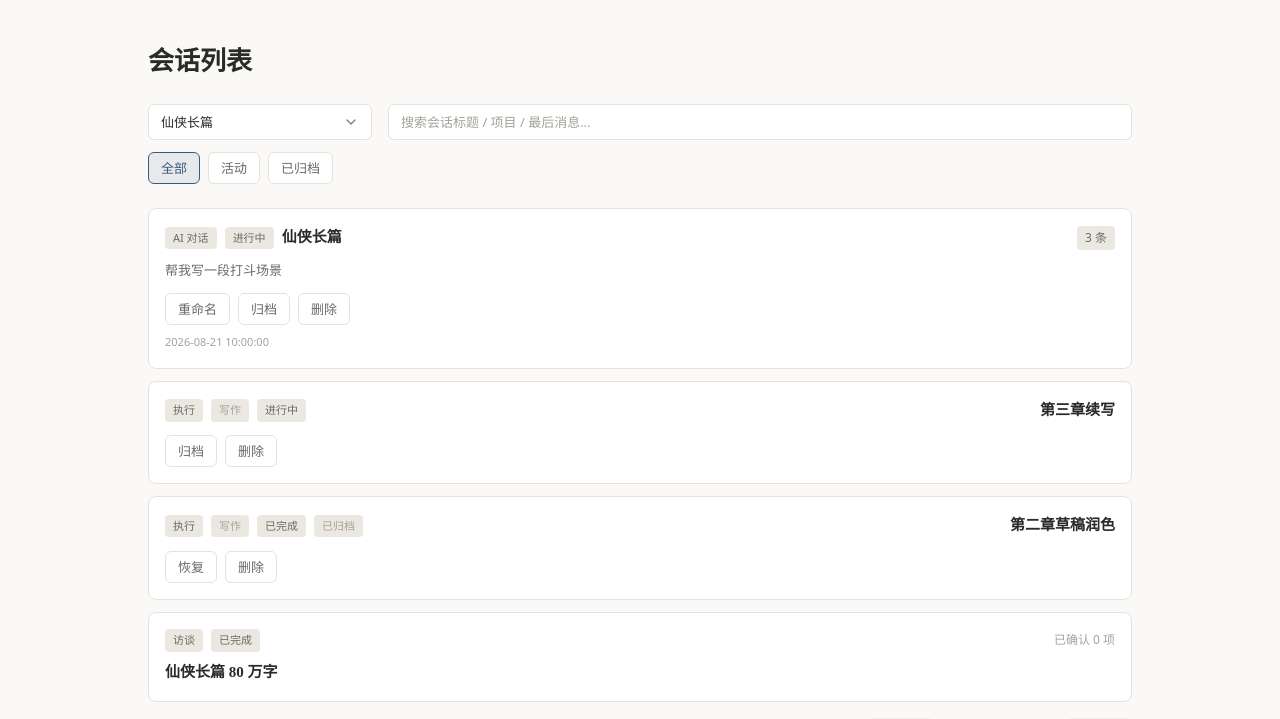
Test: 会话页 — 归档 / 恢复 / 删除（执行会话） › 归档：点 session-archive-ex-active-p1 → archiveSession(id) → 行转归档（徽标 + 恢复按钮）
The width and height of the screenshot is (1280, 719).
Expected: the button with test id "session-title-ex-active-p1" is shown, [1040, 398, 1115, 423]
Click the button with test id "session-archive-ex-active-p1". click: (191, 451)
box: [165, 435, 217, 467]
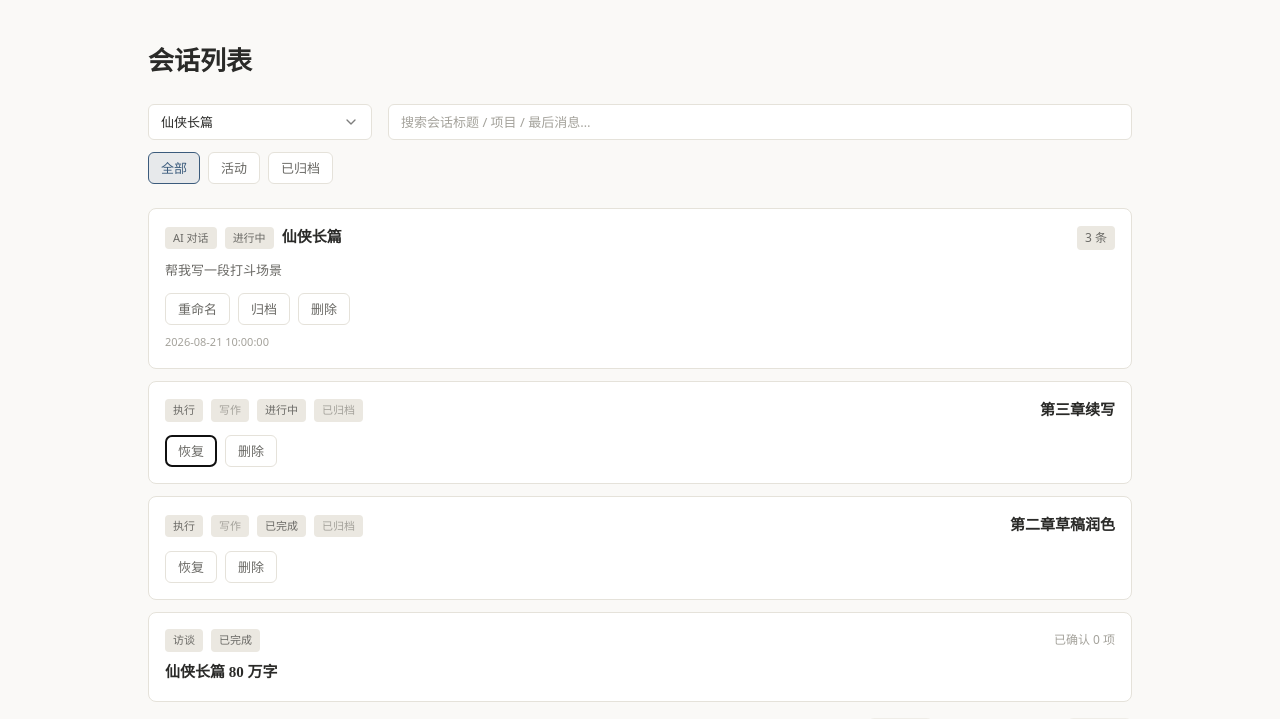
Expected: the text with test id "session-archived-ex-active-p1" is shown, [314, 399, 363, 422]
Expected: the button with test id "session-restore-ex-active-p1" is shown, [165, 435, 217, 467]
